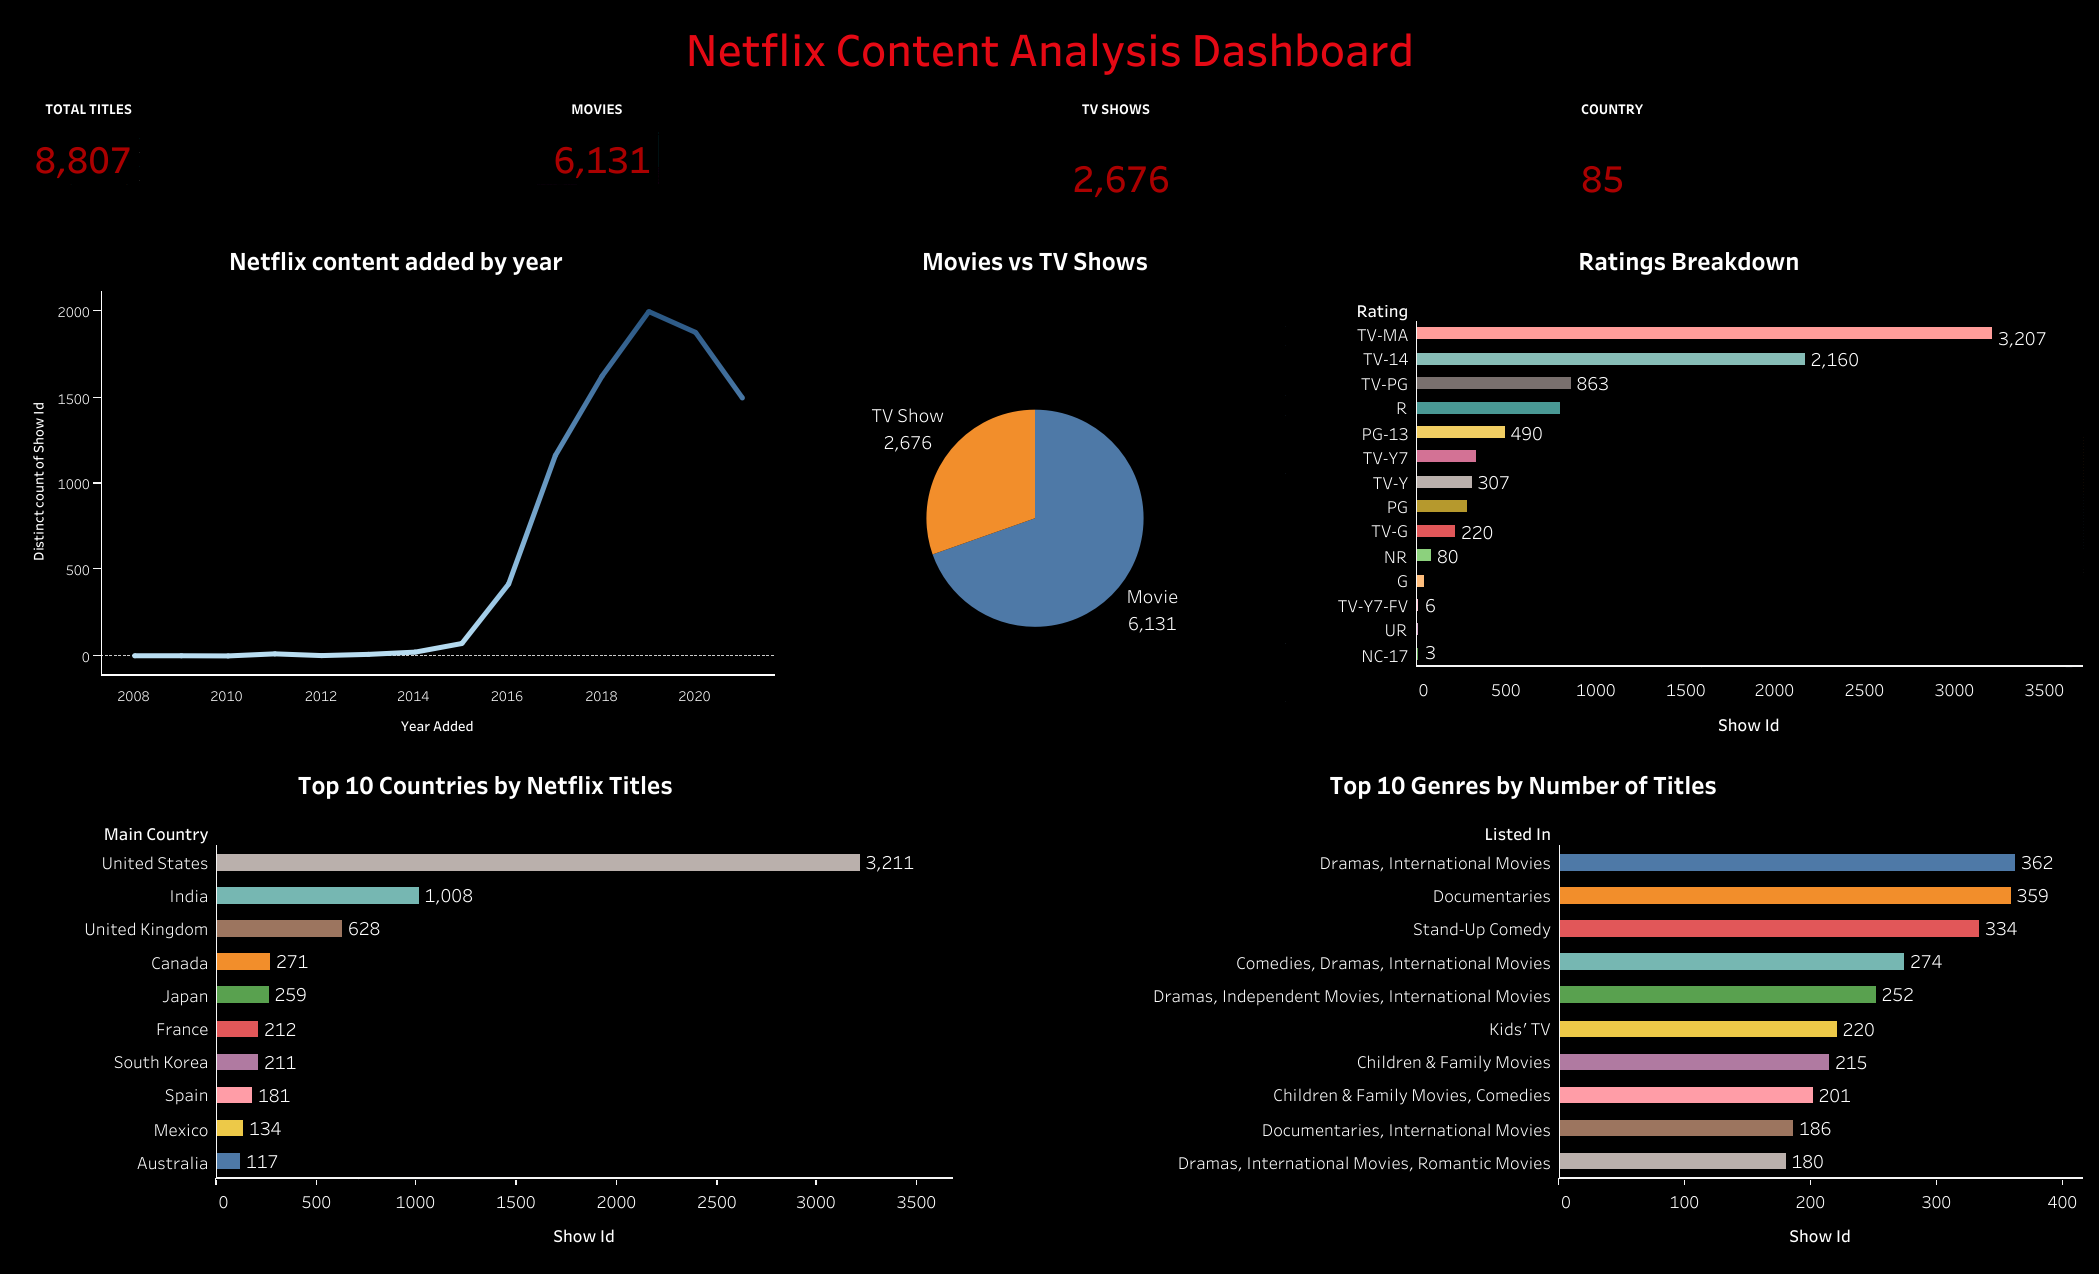

The page's visual inventory and layout, read from the dashboard file:
{"tool":"tableau","page":{"name":"Netflix Content Analysis Dashboard","canvas":[1400,850],"ordinal":0},"visuals":[{"type":"title","box":[8,8,1384,68]},{"type":"worksheet","title":"KPI - Total Titles","mark":"Automatic","box":[8,76,346,96]},{"type":"worksheet","title":"KPI - Movies","mark":"Automatic","box":[354,76,346,96]},{"type":"worksheet","title":"KPI - TV Shows","mark":"Automatic","box":[700,76,346,96]},{"type":"worksheet","title":"KPI - Countries","mark":"Text","box":[1046,76,346,96]},{"type":"worksheet","title":"Content Added by Year","mark":"Automatic","rows":["show_id"],"cols":["year_added"],"box":[8,172,512,338]},{"type":"worksheet","title":"Movies vs TV Shows","mark":"Pie","box":[520,172,340,338]},{"type":"worksheet","title":"Ratings Breakdown","mark":"Automatic","rows":["rating"],"cols":["show_id"],"box":[860,172,532,338]},{"type":"worksheet","title":"Top 10 Countries","mark":"Automatic","rows":["main_country"],"cols":["show_id"],"box":[8,510,631,332]},{"type":"worksheet","title":"Top 10 Genres","mark":"Automatic","rows":["listed_in"],"cols":["show_id"],"box":[639,510,753,332]}]}

Visuals, with their boxes in screenshot pixels (x1, y1, x2, y2), scaled from the page's 1400x850 canvas onto the 2099x1274 screenshot:
title: <region>12, 12, 2087, 114</region>
"KPI - Total Titles" worksheet: <region>12, 114, 531, 258</region>
"KPI - Movies" worksheet: <region>531, 114, 1050, 258</region>
"KPI - TV Shows" worksheet: <region>1050, 114, 1568, 258</region>
"KPI - Countries" worksheet (Text marks): <region>1568, 114, 2087, 258</region>
"Content Added by Year" worksheet: <region>12, 258, 780, 764</region>
"Movies vs TV Shows" worksheet (Pie marks): <region>780, 258, 1289, 764</region>
"Ratings Breakdown" worksheet: <region>1289, 258, 2087, 764</region>
"Top 10 Countries" worksheet: <region>12, 764, 958, 1262</region>
"Top 10 Genres" worksheet: <region>958, 764, 2087, 1262</region>
